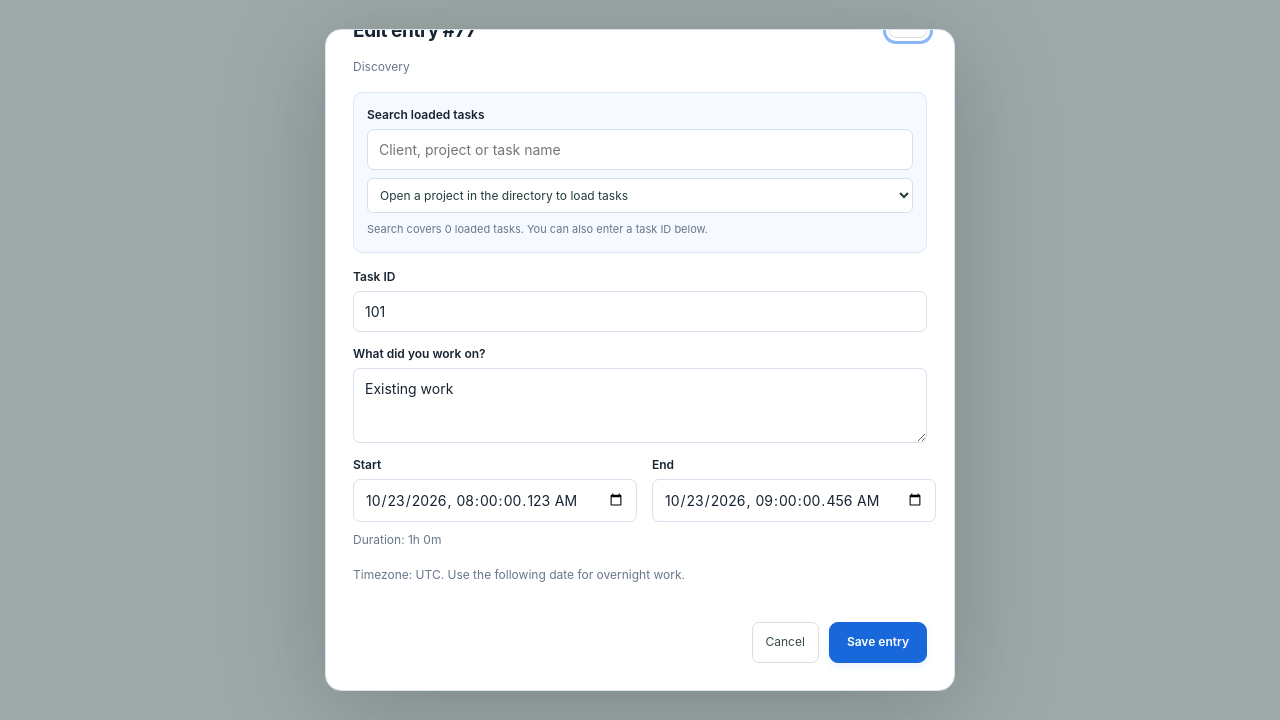
Test case: entry editor › blocks blind resubmission after an uncertain outcome
(page scrolled)
Click the button "Save entry".
click(878, 642)  # box [829,622,927,663]
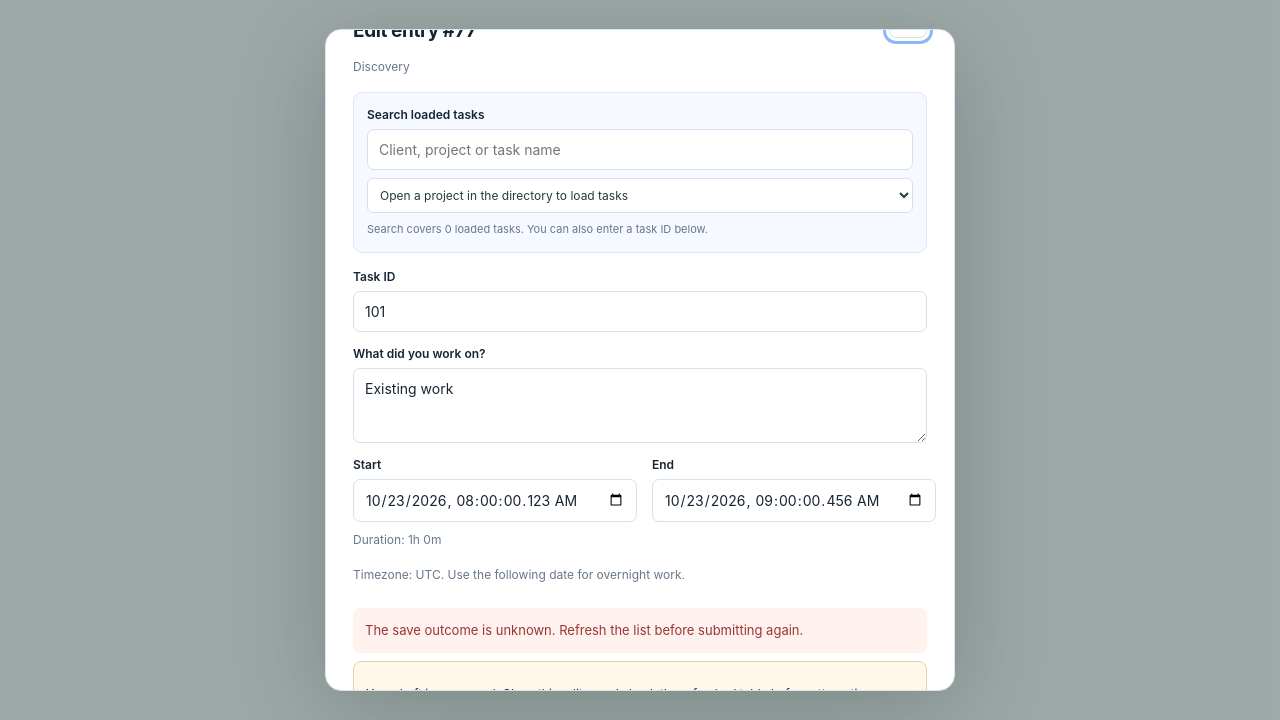
expect the text box labelled "What did you work on?" holds "Existing work": met, box [353,368,927,443]
expect the message shows "outcome is unknown": met, box [365,622,803,638]
